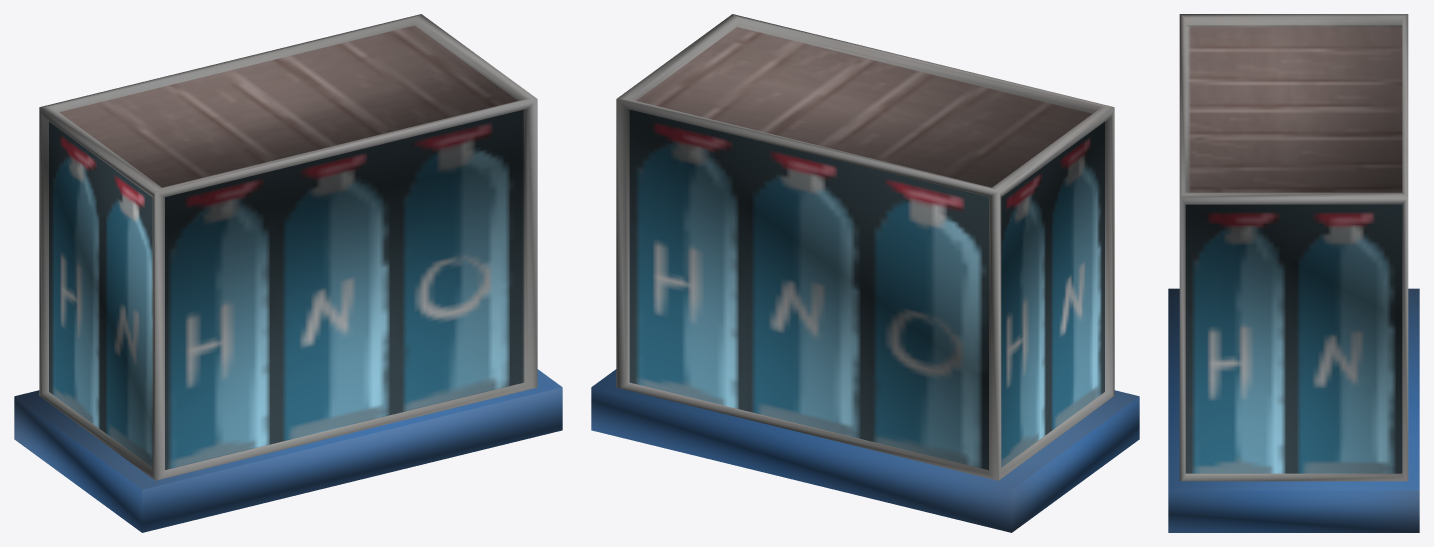
File: HydrogenTank.fbx
The picture shows the model from 3 angles, left to right: view 1: azimuth 30°, elevation 25°; view 2: azimuth 150°, elevation 25°; view 3: azimuth 270°, elevation 25°; orthographic projection.
Parts seen in each view (by area): view 1: HydrogenTank; view 2: HydrogenTank; view 3: HydrogenTank.
Part boxes in pixels (x1=…): HydrogenTank: x1=14, y1=14, x2=562, y2=532; HydrogenTank: x1=591, y1=14, x2=1139, y2=532; HydrogenTank: x1=1168, y1=14, x2=1419, y2=532.
Size of the model in its own units: 1.58 by 1.19 by 0.8294.
